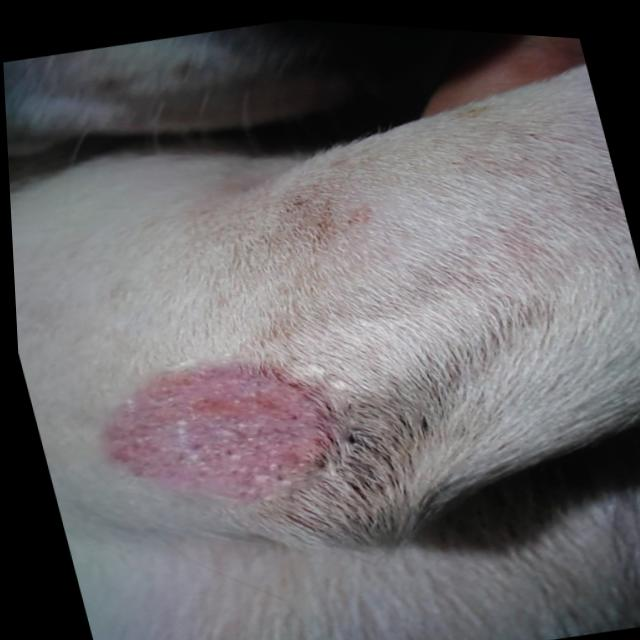ringworm: (56, 340, 361, 502)
